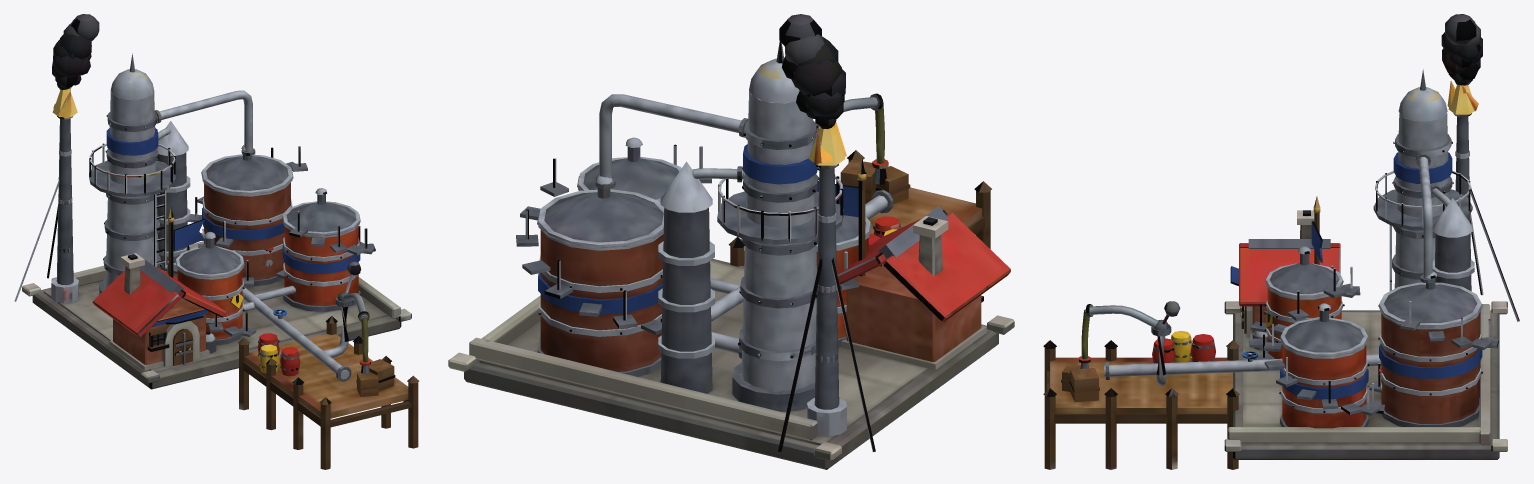
Rendered from refinery.glb.
3 renders of one model, left to right at view 1: azimuth 30°, elevation 25°; view 2: azimuth 150°, elevation 25°; view 3: azimuth 270°, elevation 25°, orthographic. The views are drawn at different scales.
Visible parts, largest first — view 1: Static_Mesh, Anim_Banners, Anim_Smoke, Anim_Crane; view 2: Static_Mesh, Anim_Smoke, Anim_Banners, Anim_Crane; view 3: Static_Mesh, Anim_Banners, Anim_Smoke, Anim_Crane.
Boxes of the visible parts, x1,y1,x2,y2 form: Static_Mesh: (14, 53, 419, 469); Anim_Banners: (106, 128, 360, 327); Anim_Smoke: (52, 14, 99, 89); Anim_Crane: (337, 261, 370, 373); Static_Mesh: (448, 41, 1014, 469); Anim_Smoke: (779, 14, 845, 129); Anim_Banners: (538, 144, 858, 314); Anim_Crane: (813, 93, 888, 184); Static_Mesh: (1043, 69, 1519, 469); Anim_Banners: (1230, 152, 1482, 399); Anim_Smoke: (1441, 14, 1482, 85); Anim_Crane: (1079, 301, 1180, 368).
Size of the model in its own units: 7.44 by 8.32 by 9.65.
Materials: 2 (2 with a texture image).
